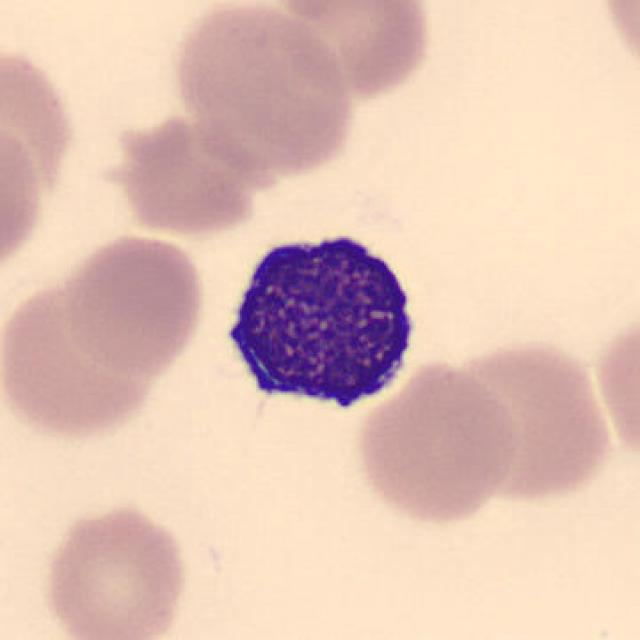Lymphocyte: (208, 215, 430, 432)
RBC: (169, 0, 359, 183), (439, 333, 617, 506), (350, 356, 521, 527), (0, 269, 165, 444), (103, 106, 274, 240), (57, 230, 208, 378), (39, 499, 194, 640), (245, 0, 439, 104), (0, 30, 80, 275), (0, 95, 52, 289), (590, 302, 638, 474), (592, 0, 640, 85)
